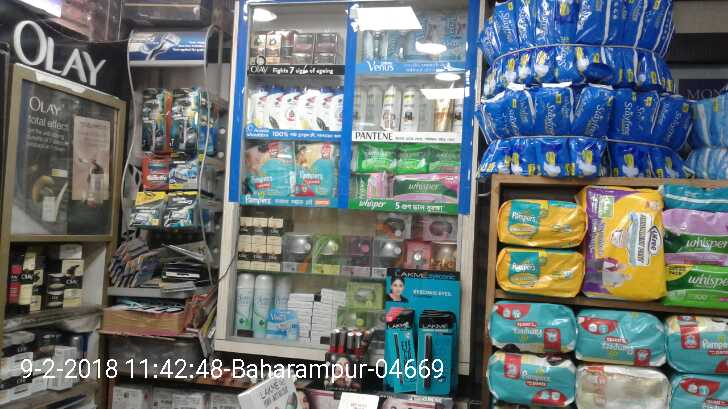venus: (409, 13, 441, 59), (441, 10, 468, 59), (365, 13, 388, 61), (388, 13, 409, 61)
